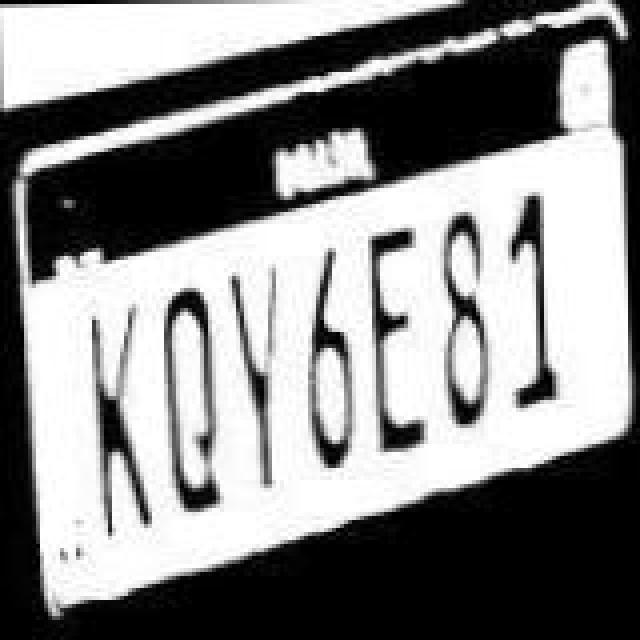1: (500, 192, 572, 440)
6: (288, 232, 360, 488)
8: (432, 206, 504, 454)
E: (358, 222, 434, 478)
K: (80, 298, 156, 550)
Q: (154, 268, 226, 536)
Y: (222, 254, 294, 518)
